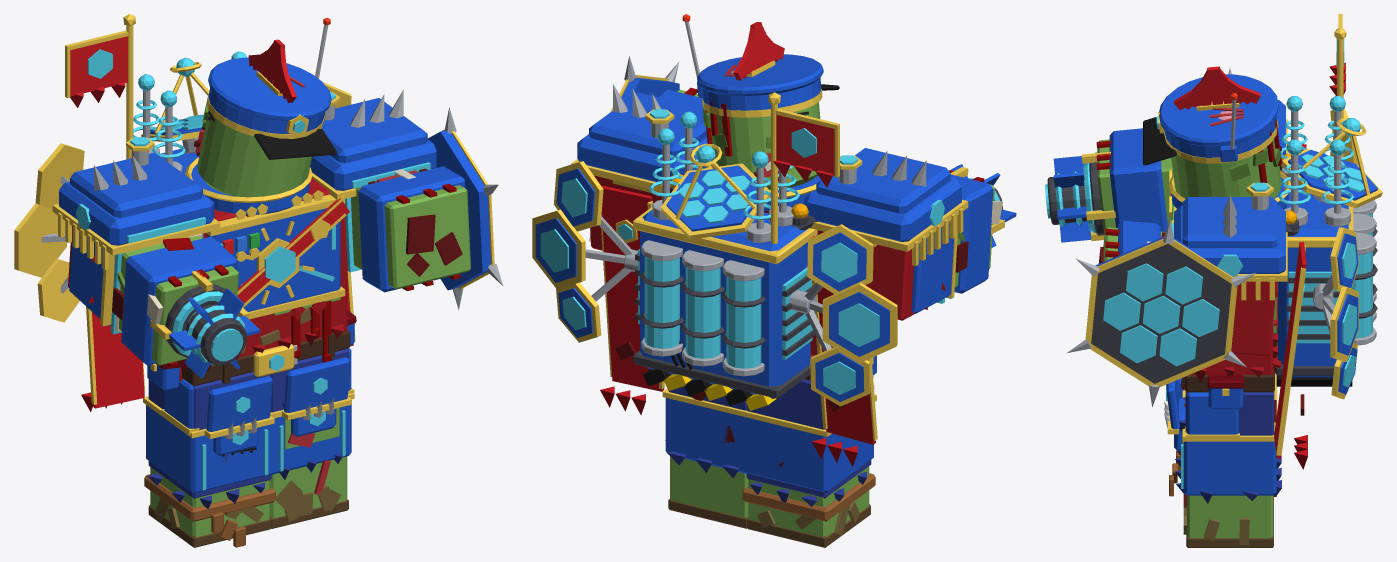
The model's file is jefe_comandante_escudo.glb.
3 renders of one model, left to right at view 1: azimuth 30°, elevation 25°; view 2: azimuth 150°, elevation 25°; view 3: azimuth 270°, elevation 25°, orthographic. The views are drawn at different scales.
Parts seen in each view (by area): view 1: Torso__2560E4, Torso__FFD44D, RightArm__2560E4, LeftArm__2560E4, Torso__53E1FF_N, LeftArm__7DB754, RightLeg__2560E4, Head__2560E4, Head__7DB754, Torso__DA1F26, Torso__B31B23, Torso__D01921 (+26 smaller); view 2: Torso__2560E4, Torso__53E1FF_N, Torso__FFD44D, Torso__ADB1BB, Torso__D01921, RightLeg__2560E4, RightArm__2560E4, Torso__474750, Head__2560E4, LeftLeg__2560E4, LeftLeg__7DB754, RightLeg__3142A0 (+17 smaller); view 3: Torso__2560E4, Torso__53E1FF_N, Torso__FFD44D, LeftArm__53E1FF_N, LeftArm__474750, RightArm__2560E4, Head__2560E4, LeftLeg__2560E4, Torso__ADB1BB, LeftLeg__7DB754, Head__7DB754, LeftArm__FFD44D (+21 smaller).
Part boxes in pixels (box(x1,y1,x2,y2)): Torso__2560E4: box(59, 98, 436, 431); Torso__FFD44D: box(14, 14, 356, 438); RightArm__2560E4: box(69, 231, 260, 378); LeftArm__2560E4: box(358, 130, 490, 292); Torso__53E1FF_N: box(75, 49, 430, 413); LeftArm__7DB754: box(351, 169, 470, 289); RightLeg__2560E4: box(146, 405, 272, 493); Head__2560E4: box(208, 57, 331, 133); Head__7DB754: box(197, 114, 311, 197); Torso__DA1F26: box(70, 36, 349, 303); Torso__B31B23: box(177, 178, 347, 381); Torso__D01921: box(81, 275, 353, 412); Torso__2560E4: box(535, 92, 961, 401); Torso__53E1FF_N: box(540, 109, 944, 394); Torso__FFD44D: box(532, 92, 968, 441); Torso__ADB1BB: box(585, 84, 926, 376); Torso__D01921: box(600, 185, 875, 466); RightLeg__2560E4: box(745, 417, 873, 492); RightArm__2560E4: box(911, 164, 1016, 313); Torso__474750: box(633, 186, 817, 398); Head__2560E4: box(697, 54, 823, 110); LeftLeg__2560E4: box(665, 398, 746, 473); LeftLeg__7DB754: box(670, 456, 748, 517); RightLeg__3142A0: box(746, 379, 871, 506); Torso__2560E4: box(1166, 96, 1377, 434); Torso__53E1FF_N: box(1166, 39, 1372, 401); Torso__FFD44D: box(1167, 14, 1382, 455); LeftArm__53E1FF_N: box(1103, 263, 1219, 366); LeftArm__474750: box(1091, 243, 1231, 383); RightArm__2560E4: box(1053, 128, 1167, 242); Head__2560E4: box(1159, 74, 1278, 162); LeftLeg__2560E4: box(1174, 398, 1276, 495); Torso__ADB1BB: box(1223, 67, 1376, 345); LeftLeg__7DB754: box(1182, 430, 1273, 538); Head__7DB754: box(1171, 139, 1281, 198); LeftArm__FFD44D: box(1085, 239, 1237, 387).
Bounding box in the file's own units: 11.61 × 14.66 × 9.81.
